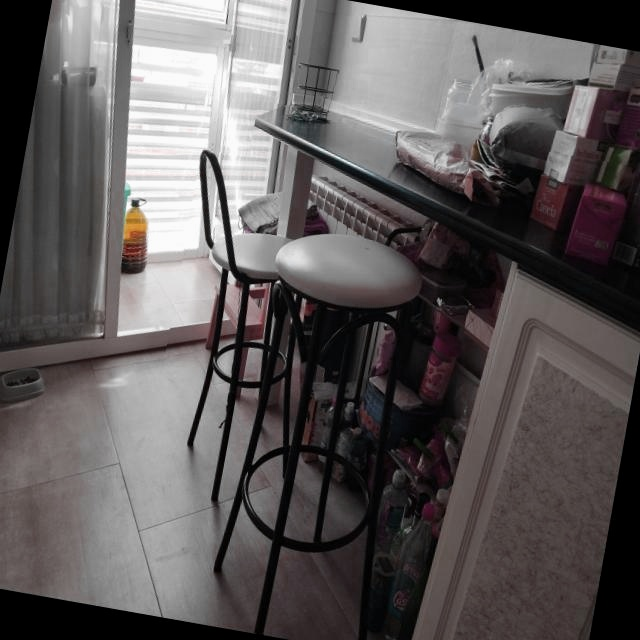cabinet: (411, 264, 640, 640)
chair: (213, 234, 422, 640), (187, 151, 290, 505)
countertop: (255, 111, 640, 331)
